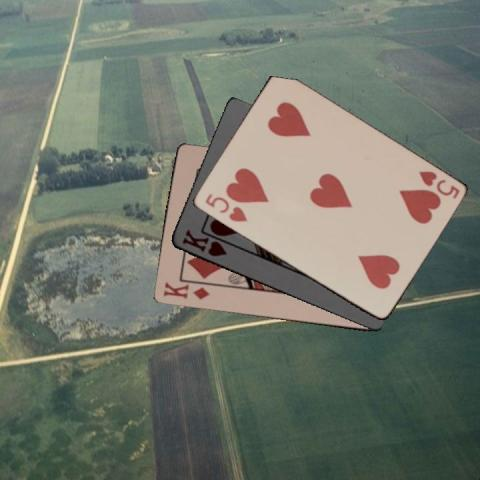5h: (414, 167, 461, 201), (202, 191, 250, 224)
Kd: (160, 280, 211, 302)
Kh: (179, 227, 228, 258)
